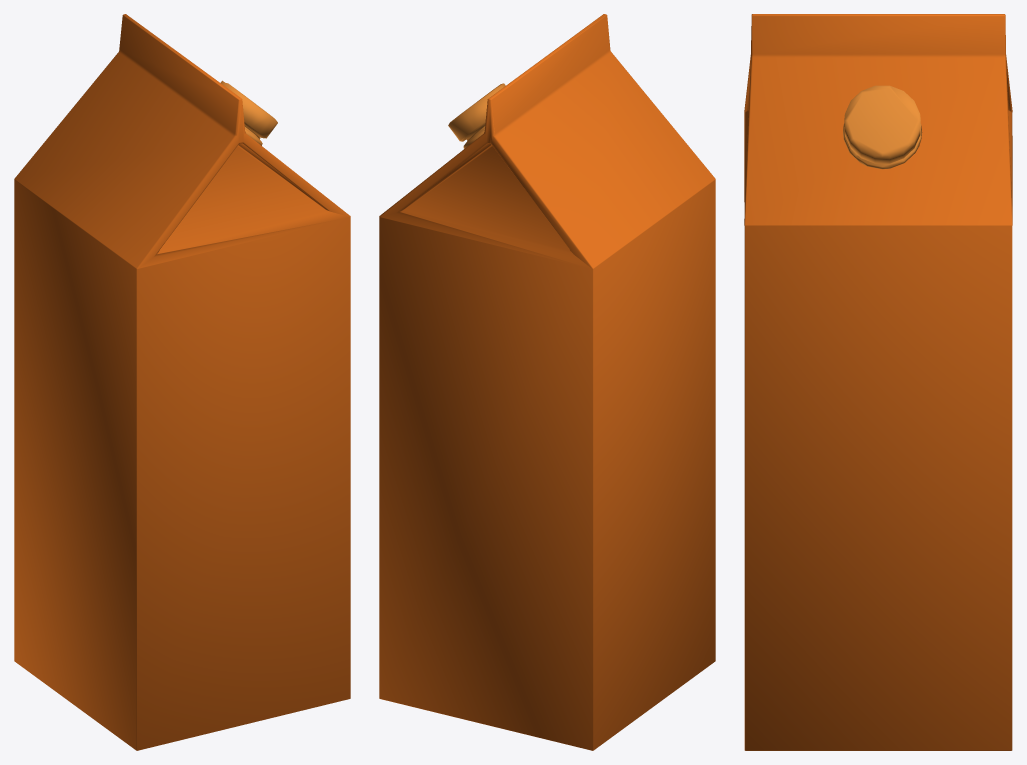
The model's file is Juice_Box.fbx.
3 renders of one model, left to right at view 1: azimuth 30°, elevation 25°; view 2: azimuth 150°, elevation 25°; view 3: azimuth 270°, elevation 25°, orthographic. The views are drawn at different scales.
Parts seen in each view (by area): view 1: Cube, Cylinder; view 2: Cube, Cylinder; view 3: Cube, Cylinder.
Part boxes in pixels (x1,y1,x2,y2): Cube: (14,14,350,750); Cylinder: (220,80,277,145); Cube: (379,14,715,750); Cylinder: (448,83,505,148); Cube: (744,14,1012,750); Cylinder: (843,85,922,169).
Size of the model in its own units: 153 by 424 by 152.
